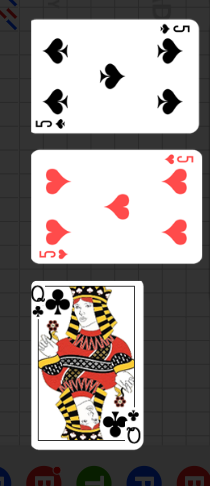5H: (38, 248, 69, 260)
5S: (157, 23, 191, 35)
9C: (125, 408, 142, 446)
